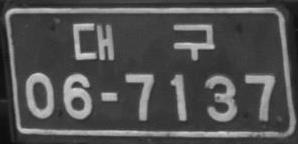0: (24, 71, 55, 118)
1: (162, 74, 195, 122)
3: (204, 74, 238, 122)
6: (62, 72, 92, 121)
7: (243, 73, 275, 123), (125, 72, 155, 122)
대구_D: (72, 22, 215, 61)
